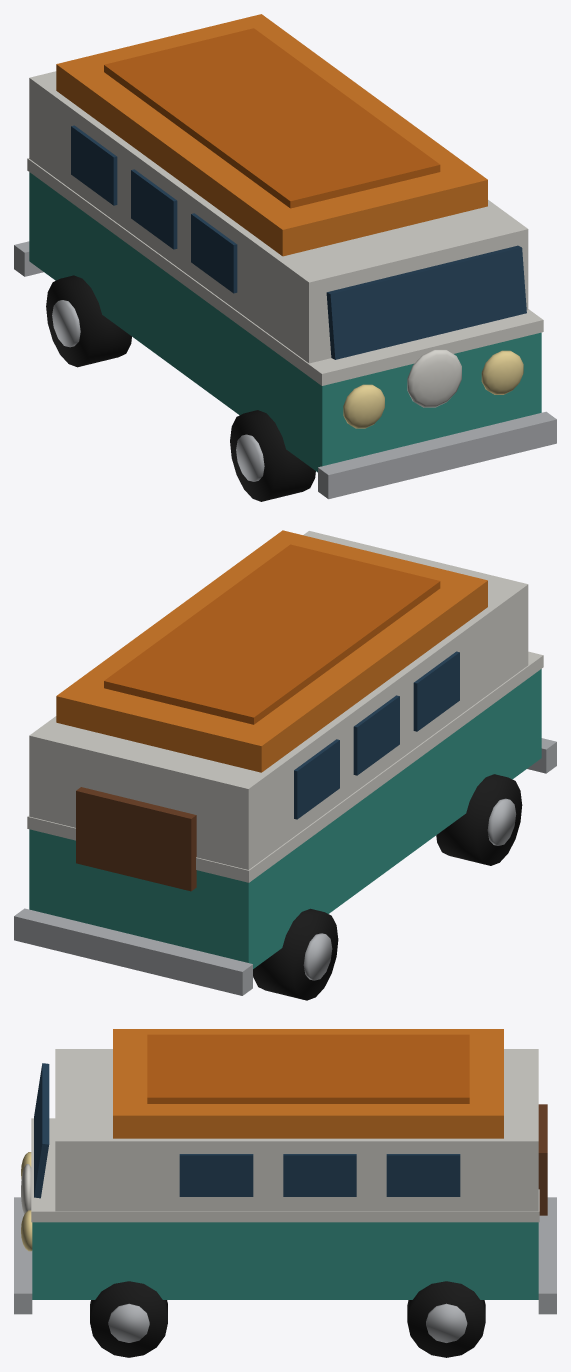
3 renders of one model, top to bottom at view 1: azimuth 30°, elevation 25°; view 2: azimuth 150°, elevation 25°; view 3: azimuth 270°, elevation 25°, orthographic. The views are drawn at different scales.
Visible parts, largest first — view 1: camper-toy; view 2: camper-toy; view 3: camper-toy.
Boxes of the visible parts, box(x1,y1,x2,y2) form: camper-toy: box(14, 14, 556, 501); camper-toy: box(14, 530, 556, 1000); camper-toy: box(14, 1029, 556, 1357).
Bounding box in the file's own units: 0.111 × 0.115 × 0.236.
